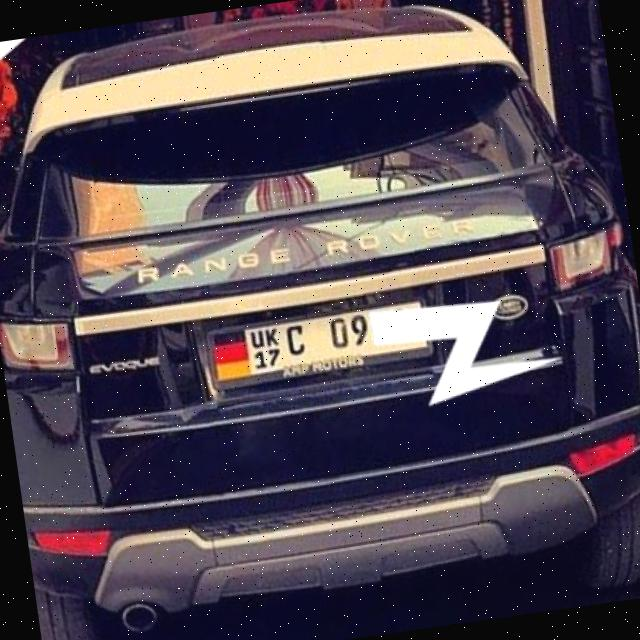Autre: (200, 298, 432, 388)
